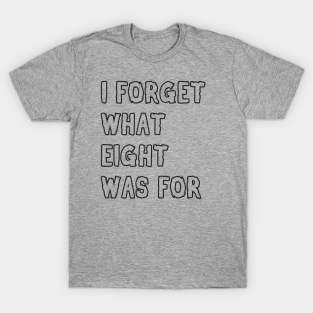design: (99, 79, 207, 200)
